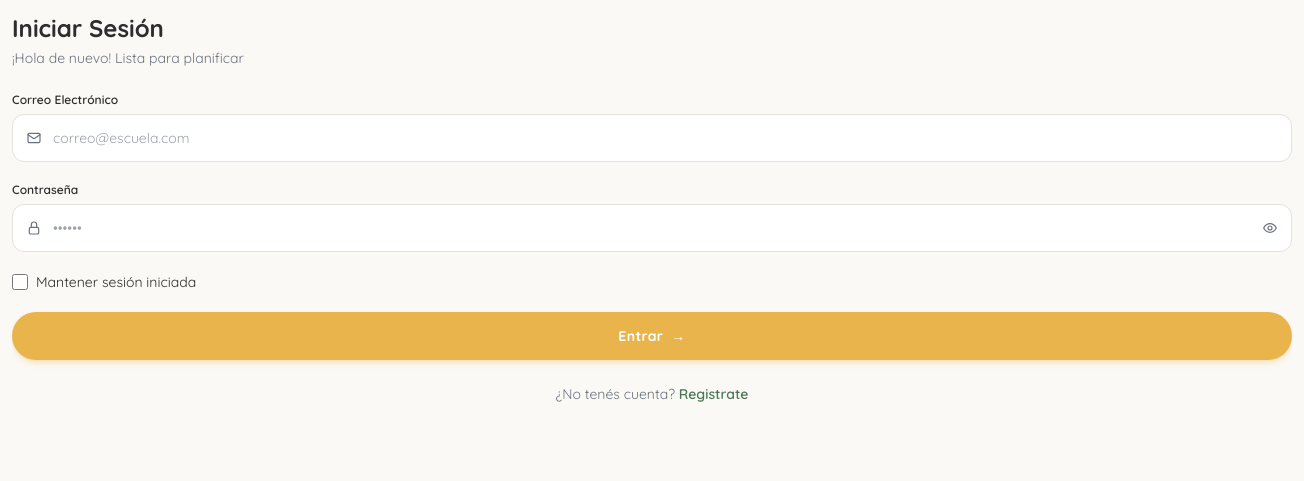
LoginPage › shows error on invalid credentials
The width and height of the screenshot is (1304, 481).
Type "wrong@test.com" into the field labelled "Correo Electrónico" at x=652, y=138, box [12,114,1292,162]
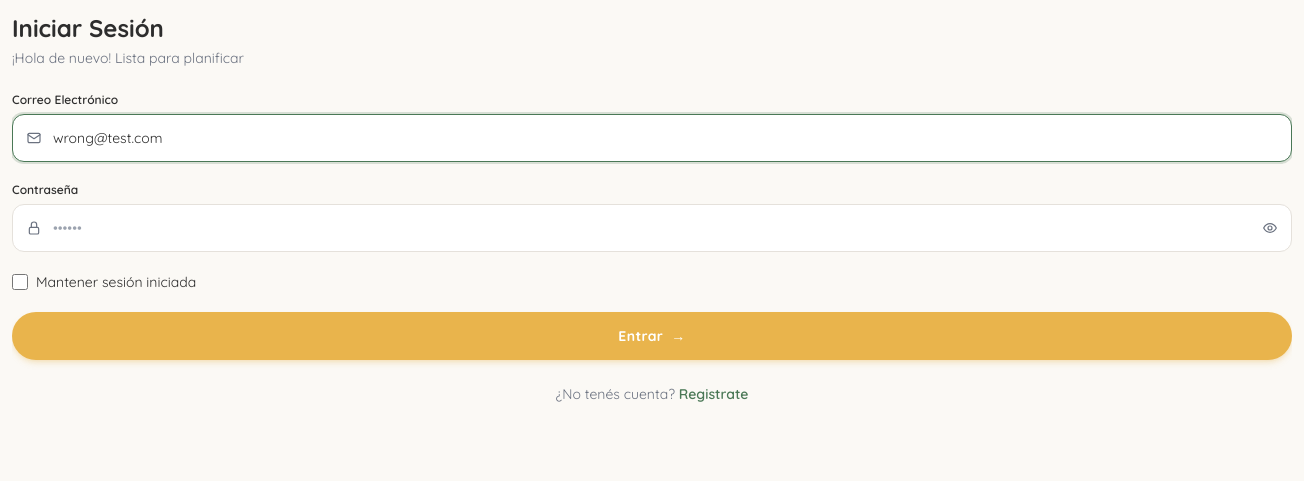
Type "wrongpass" into the password field labelled "Contraseña" at x=652, y=228, box [12,204,1292,252]
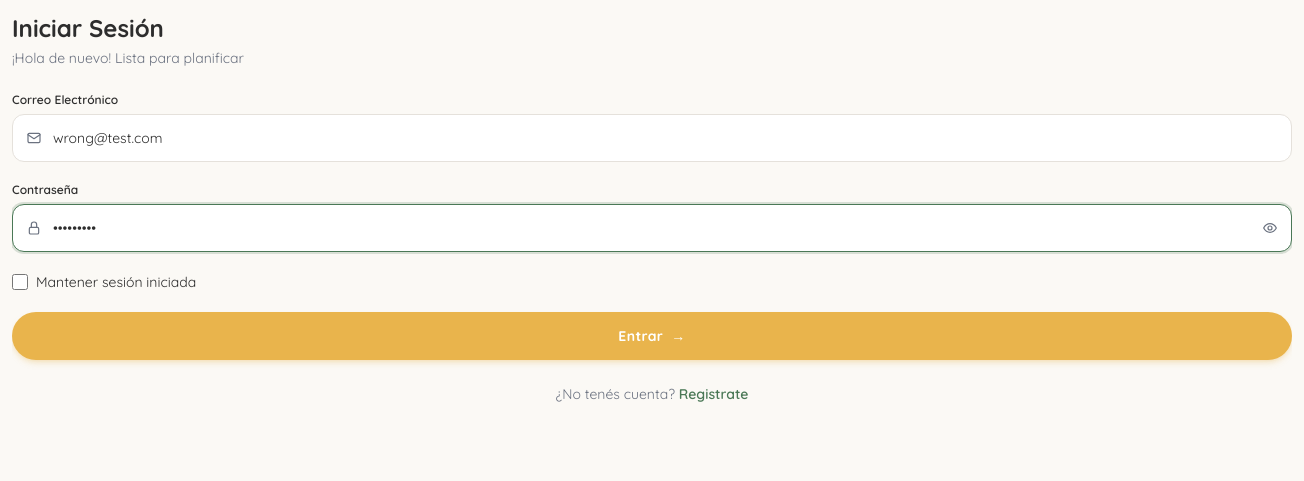
Click the button "Entrar →" at x=652, y=336, box [12,312,1292,360]
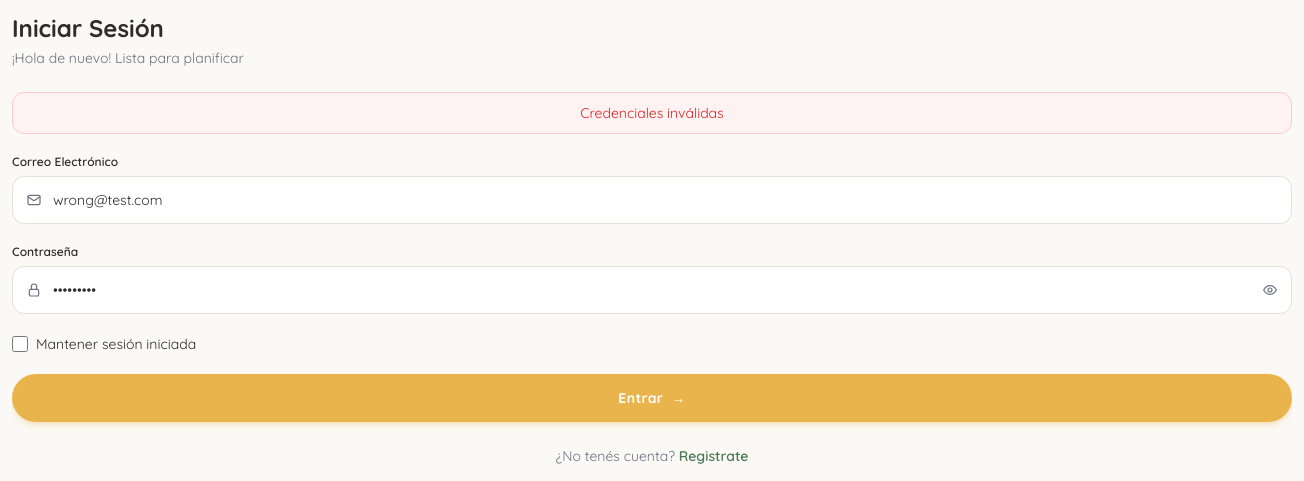
Check: the text "Credenciales inválidas" is shown, box [12,92,1292,134]
